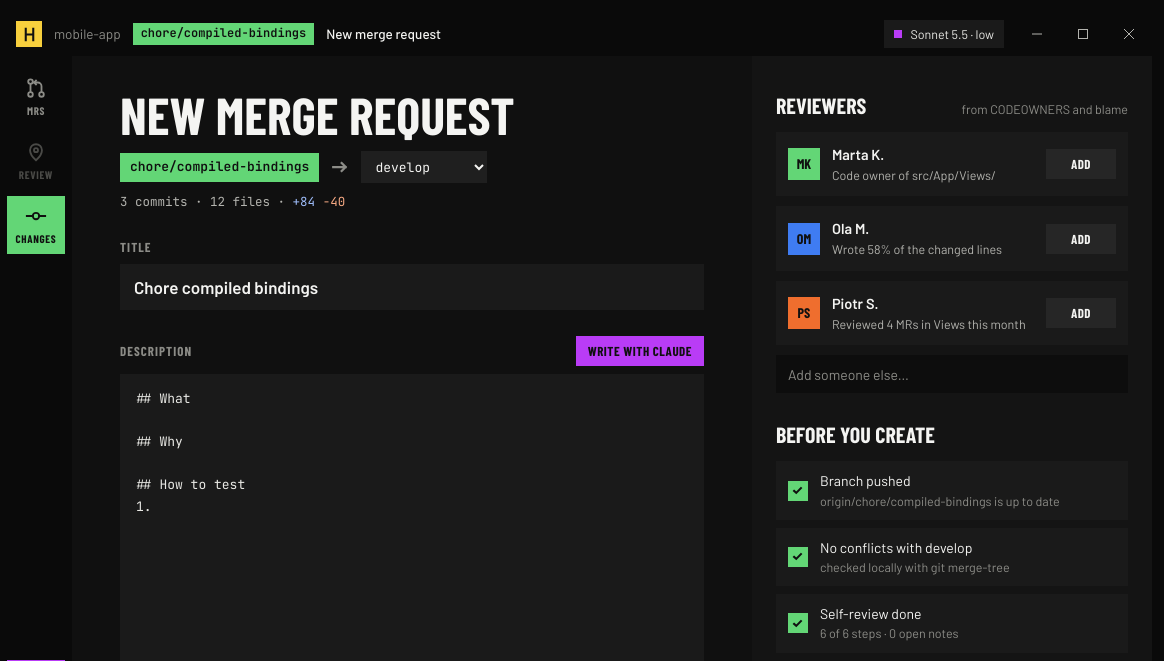
it: S-11 branch block, a target that fails (F-27.1) › F-27.1 a target that is no longer on origin shows the reason and keeps the select
Select "main" in the dropdown named "Target branch" at (424, 167), box [361,151,487,183]
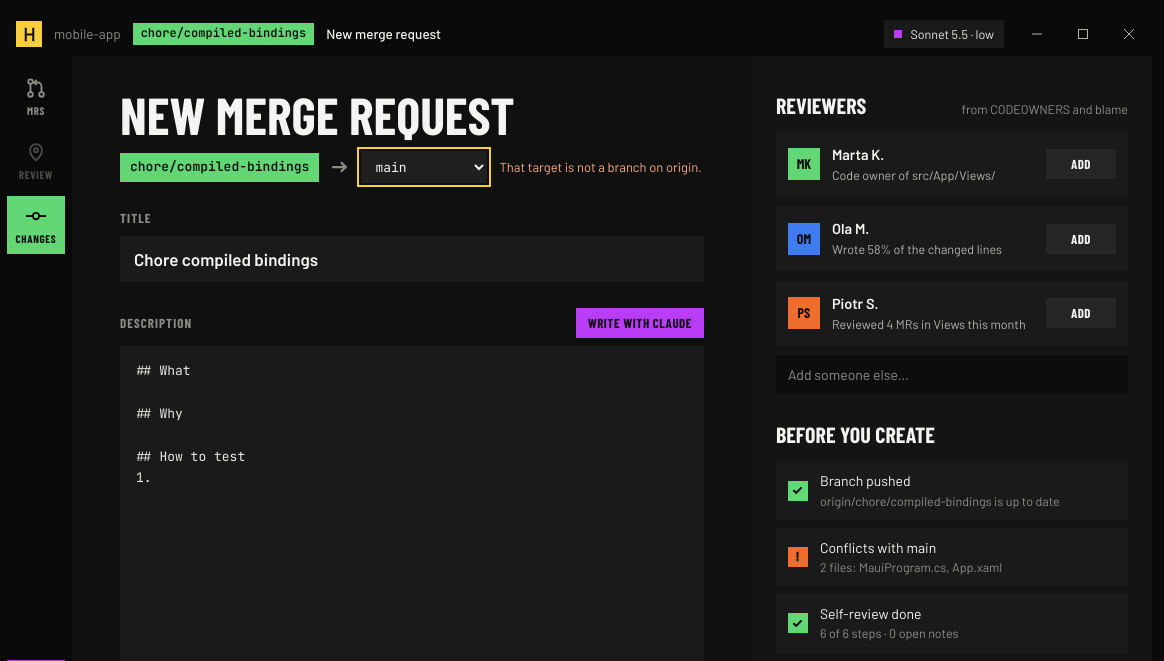
Now the message reads "That target is not a branch on origin.", box [499,159,702,175]
Select "release/1.8" in the dropdown named "Target branch" at (424, 167), box [361,151,487,183]
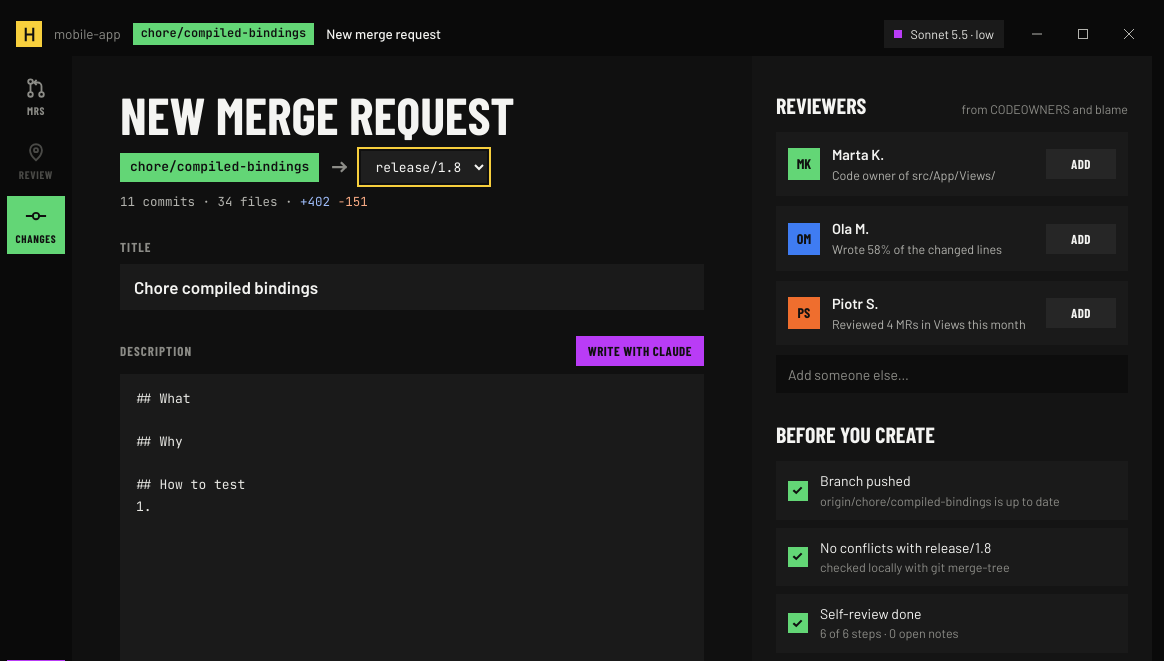
Now the text "11 commits · 34 files · +402 −151" is shown, box [120,193,368,212]
